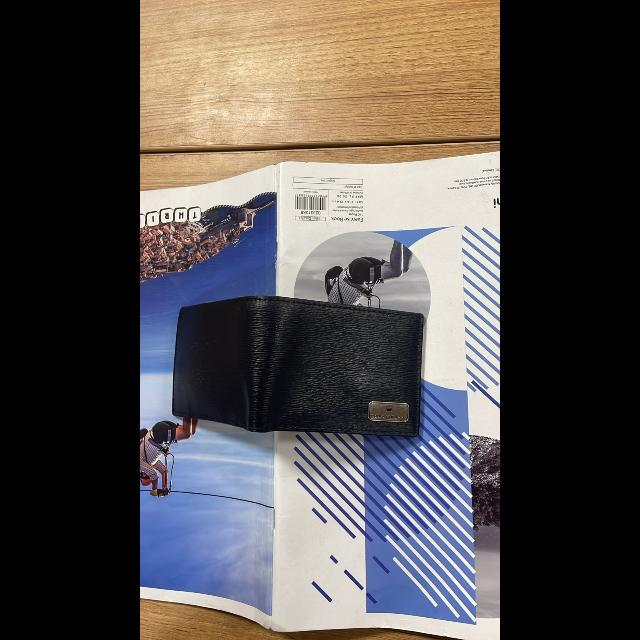wallet: (163, 286, 453, 452)
